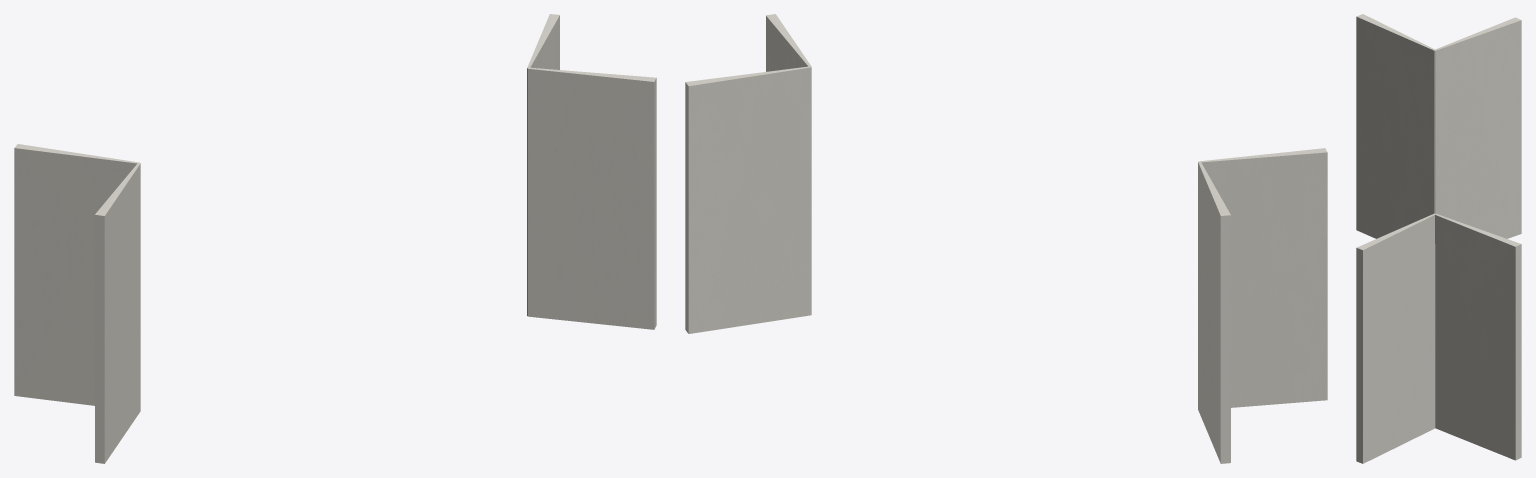
Rendered from pale_danish_standard_valleyv.glb.
3 views of the same model, side by side, from view 1: azimuth 30°, elevation 25°; view 2: azimuth 150°, elevation 25°; view 3: azimuth 270°, elevation 25° (orthographic). The views are drawn at different scales.
Parts seen in each view (by area): view 1: valleyv; view 2: valleyv; view 3: valleyv.
Boxes of the visible parts, x1=… form: valleyv: x1=14, y1=14, x2=656, y2=463; valleyv: x1=685, y1=14, x2=1327, y2=463; valleyv: x1=1356, y1=14, x2=1521, y2=463.
Bounding box in the file's own units: 5.79 × 2.44 × 1.71.
1 material, 1 textured.
